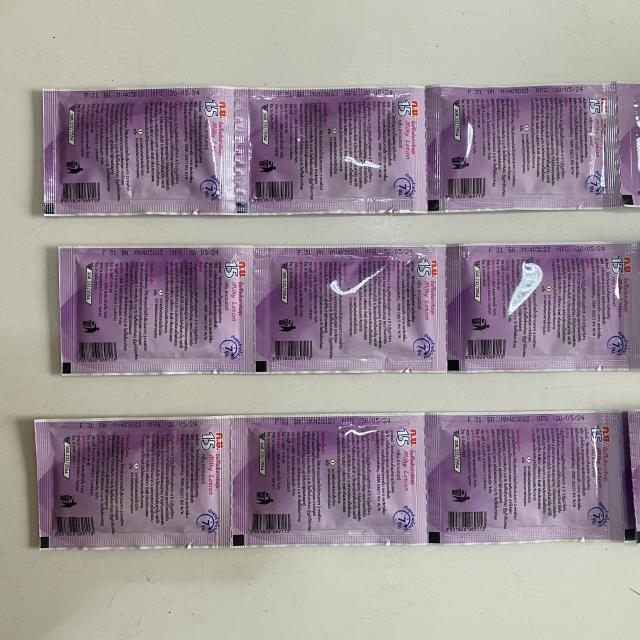plastik: (425, 82, 640, 211), (45, 86, 253, 215), (426, 411, 626, 544), (35, 416, 231, 549), (232, 414, 428, 545), (446, 242, 640, 371), (59, 246, 254, 374), (236, 86, 428, 214), (255, 245, 446, 372)
